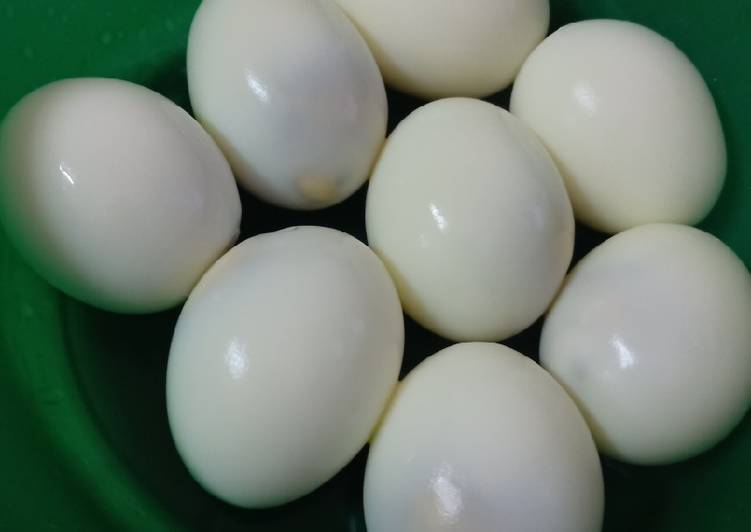Telur: (101, 257, 378, 493), (20, 80, 238, 315), (521, 20, 740, 230), (149, 6, 383, 197), (533, 243, 724, 463), (389, 343, 603, 532), (375, 107, 561, 316)
